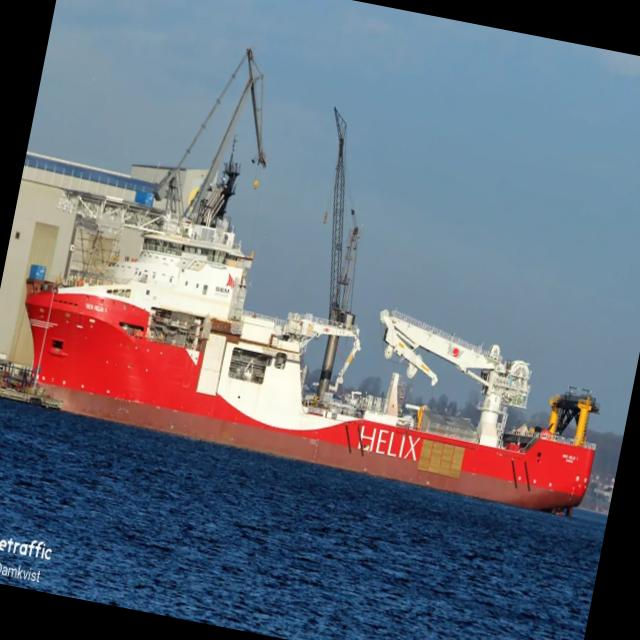Offshore: (25, 212, 597, 512)
